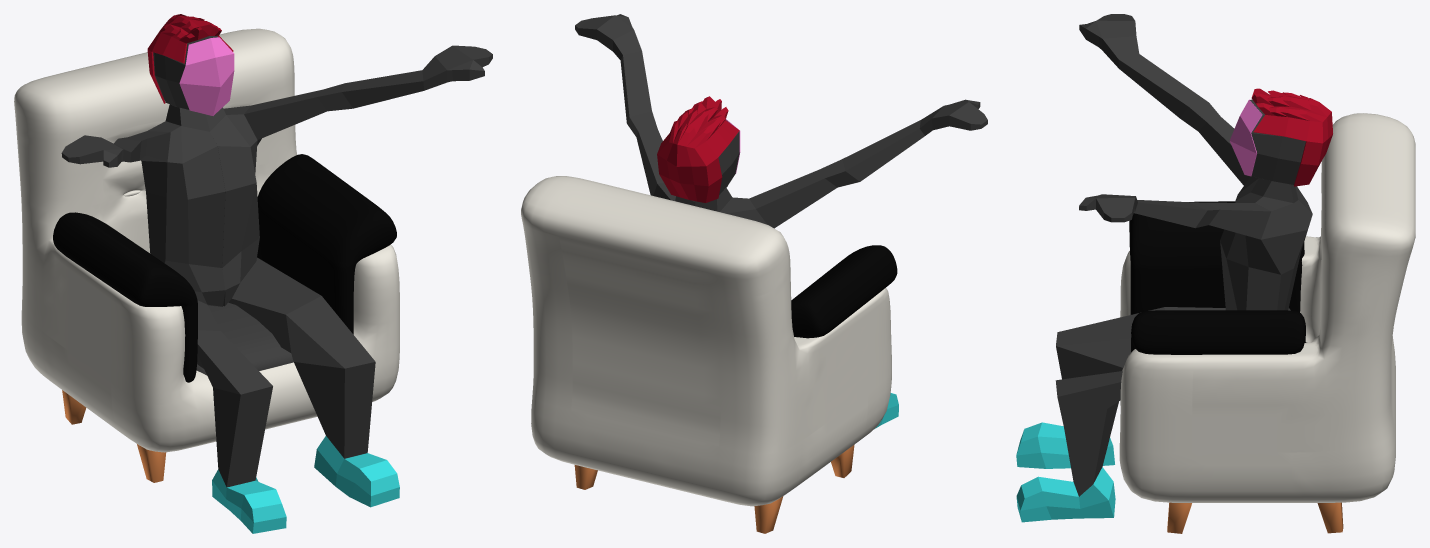
The picture shows the model from 3 angles, left to right: view 1: azimuth 30°, elevation 25°; view 2: azimuth 150°, elevation 25°; view 3: azimuth 270°, elevation 25°; orthographic projection. The views are drawn at different scales.
Parts seen in each view (by area): view 1: Cube.012, Cube.018, Plane.001, Plane.002, Cube.020, Cube.021, Plane, Cube.019, Plane.004; view 2: Cube.012, Cube.018, Cube.019, Plane.002, Plane.005; view 3: Cube.012, Cube.018, Plane.002, Plane.001, Cube.020, Cube.019, Cube.021, Plane.006, Plane.003.
Part boxes in pixels (x1,y1,x2,y2): Cube.012: (14, 28, 399, 452); Cube.018: (61, 36, 492, 487); Plane.001: (257, 154, 396, 334); Plane.002: (53, 212, 197, 382); Cube.020: (212, 436, 399, 533); Cube.021: (179, 37, 234, 115); Plane: (196, 302, 293, 375); Cube.019: (147, 14, 233, 103); Plane.004: (137, 444, 166, 482); Cube.012: (521, 176, 891, 506); Cube.018: (575, 14, 987, 228); Cube.019: (657, 96, 739, 202); Plane.002: (791, 245, 897, 338); Plane.005: (754, 496, 783, 533); Cube.012: (1119, 113, 1415, 502); Cube.018: (1055, 14, 1312, 496); Plane.002: (1129, 201, 1304, 314); Plane.001: (1131, 310, 1305, 354); Cube.020: (1016, 422, 1115, 522); Cube.019: (1251, 88, 1332, 186); Cube.021: (1229, 99, 1262, 176); Plane.006: (1317, 502, 1343, 533); Plane.003: (1167, 502, 1191, 533).
Bounding box in the file's own units: 14.94 × 13.53 × 12.36.
